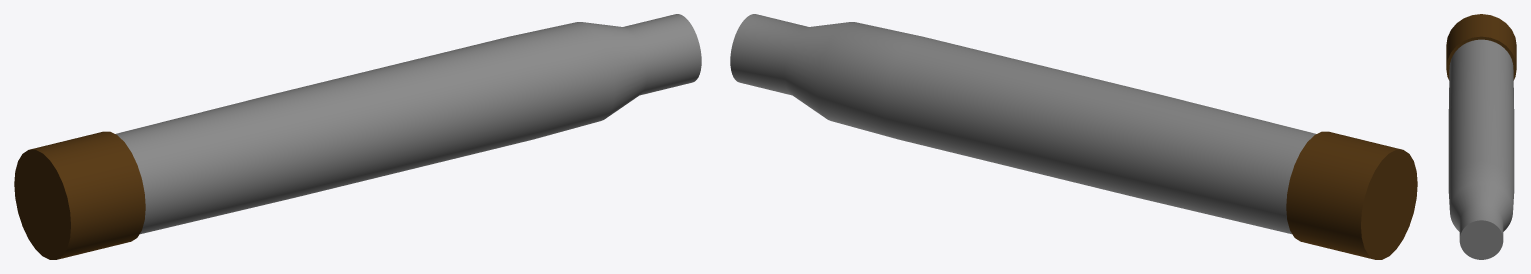
File: 14_paint_tubes.fbx
3 views of the same model, side by side, from view 1: azimuth 30°, elevation 25°; view 2: azimuth 150°, elevation 25°; view 3: azimuth 270°, elevation 25° (orthographic). The views are drawn at different scales.
Parts seen in each view (by area): view 1: TubeBody, TubeCap; view 2: TubeBody, TubeCap; view 3: TubeBody, TubeCap.
Boxes of the visible parts, left/top/right/bottom form: TubeBody: left=115, top=14, right=701, bottom=234; TubeCap: left=14, top=131, right=145, bottom=259; TubeBody: left=730, top=14, right=1316, bottom=234; TubeCap: left=1286, top=131, right=1417, bottom=259; TubeBody: left=1448, top=39, right=1514, bottom=259; TubeCap: left=1446, top=14, right=1516, bottom=80.
Bounding box in the file's own units: 0.189 × 0.029 × 0.029.
Materials: 2 (2 with a texture image).
